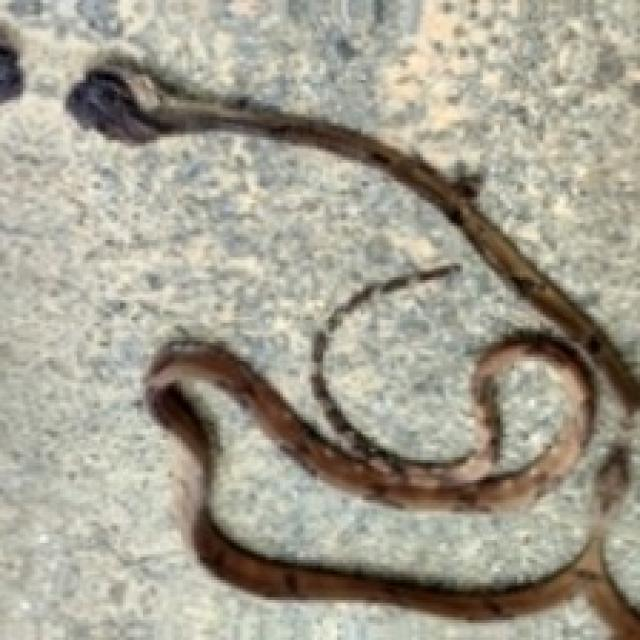dog-toothed cat snake: (66, 54, 637, 637), (494, 357, 569, 471)
